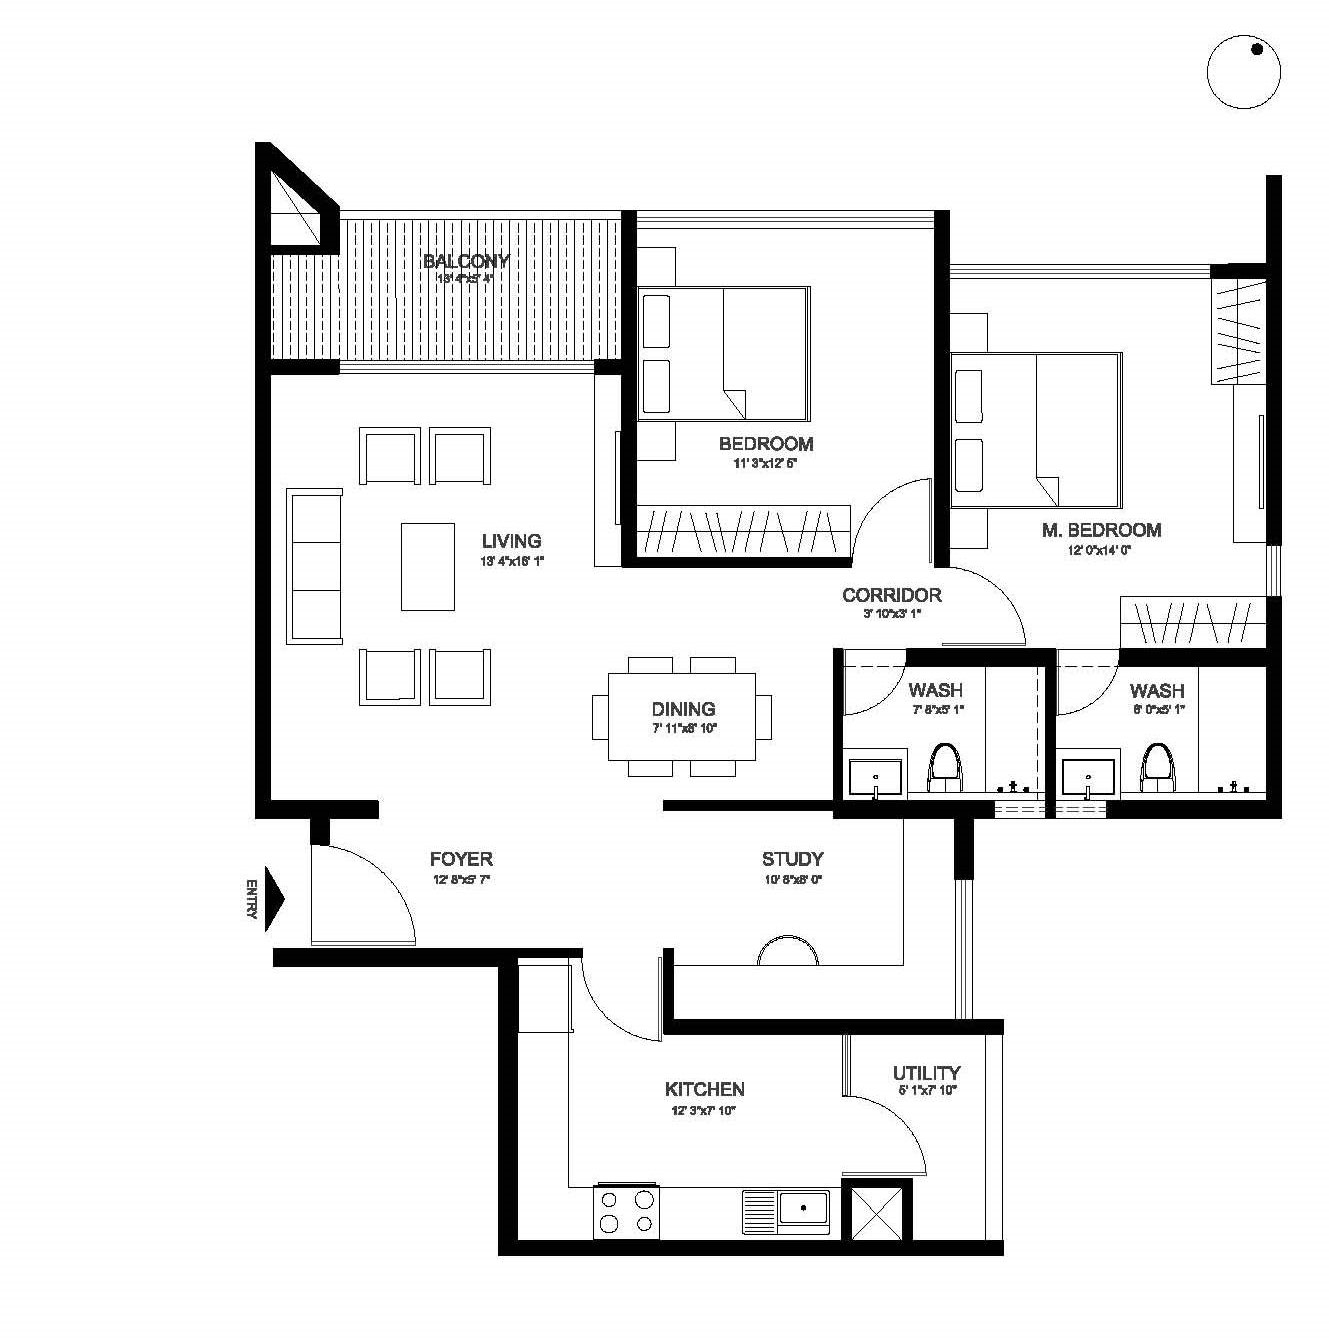wall: (254, 375, 270, 816), (932, 212, 951, 567), (497, 952, 517, 1254), (500, 1242, 1004, 1254), (1264, 275, 1282, 544), (664, 1020, 1004, 1032), (273, 950, 511, 964), (1104, 797, 1280, 817), (913, 646, 1058, 670), (619, 370, 637, 562), (271, 948, 509, 962), (256, 145, 269, 365), (1118, 650, 1280, 666), (1266, 661, 1282, 819), (628, 554, 849, 565), (258, 799, 378, 818), (622, 209, 637, 368), (839, 800, 969, 816), (832, 646, 842, 814), (1267, 173, 1283, 275), (258, 359, 340, 375), (954, 812, 974, 877), (666, 801, 832, 808), (841, 1172, 912, 1189), (274, 161, 313, 190), (319, 205, 338, 256), (664, 945, 675, 1032), (1268, 597, 1280, 655), (309, 810, 329, 845), (501, 950, 579, 957), (842, 1183, 851, 1245), (1213, 265, 1274, 274), (961, 804, 996, 818), (596, 360, 624, 375), (258, 246, 336, 251), (901, 1186, 907, 1245)
